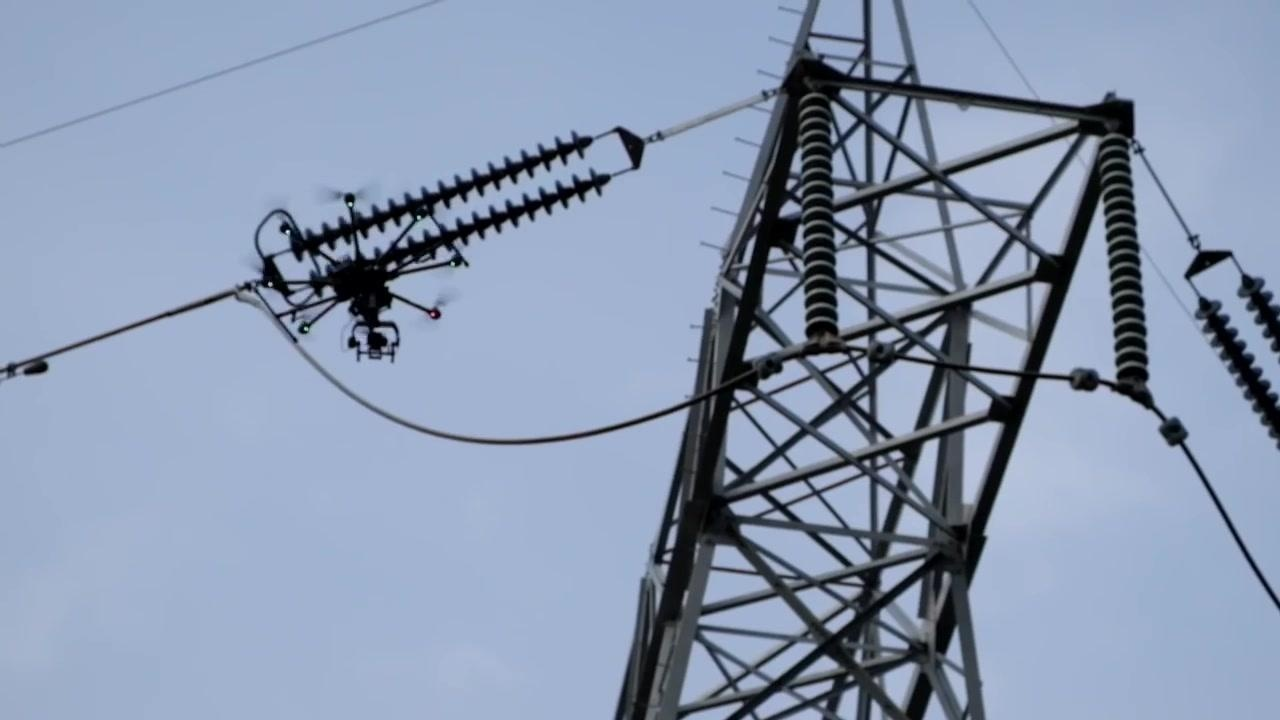UAV: (254, 194, 471, 364)
